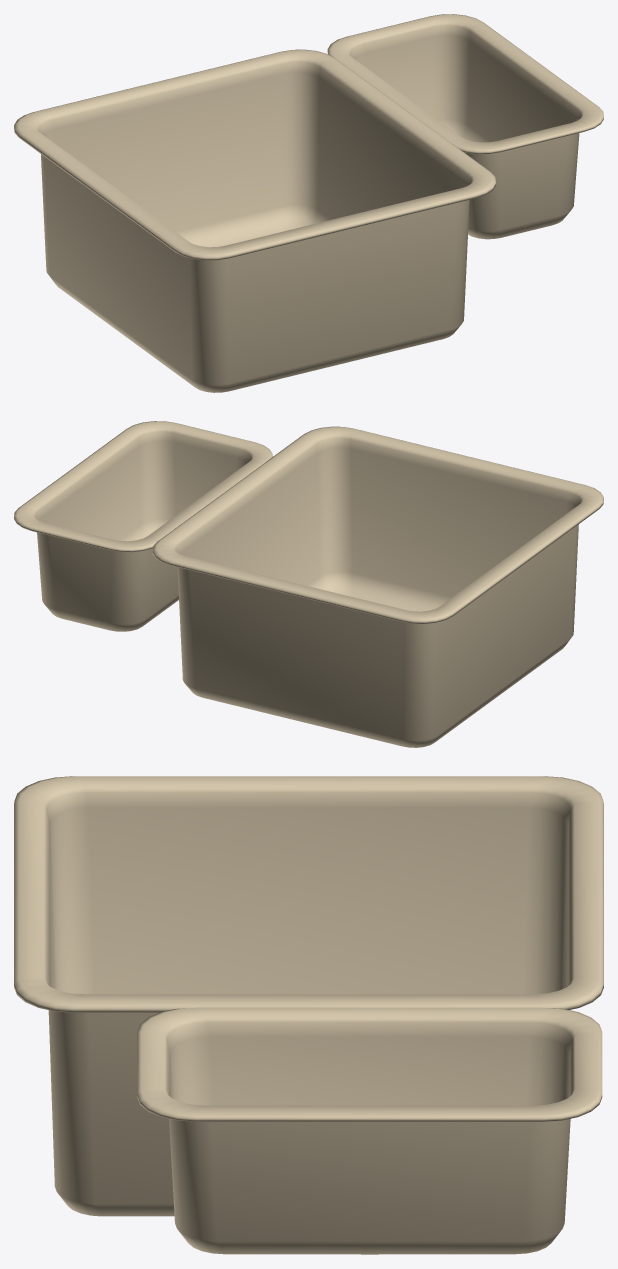
Rendered from a_sink_half_2.glb.
3 renders of one model, top to bottom at view 1: azimuth 30°, elevation 25°; view 2: azimuth 150°, elevation 25°; view 3: azimuth 270°, elevation 25°, orthographic. The views are drawn at different scales.
Visible parts, largest first — view 1: o, o.002; view 2: o, o.002; view 3: o, o.002.
Boxes of the visible parts, bbox=[...] form: o: bbox=[14, 49, 495, 392]; o.002: bbox=[327, 14, 603, 239]; o: bbox=[152, 426, 603, 747]; o.002: bbox=[14, 421, 272, 631]; o: bbox=[14, 776, 603, 1216]; o.002: bbox=[137, 1007, 602, 1254].
Bounding box in the file's own units: 0.5972 × 0.2012 × 0.4364.
